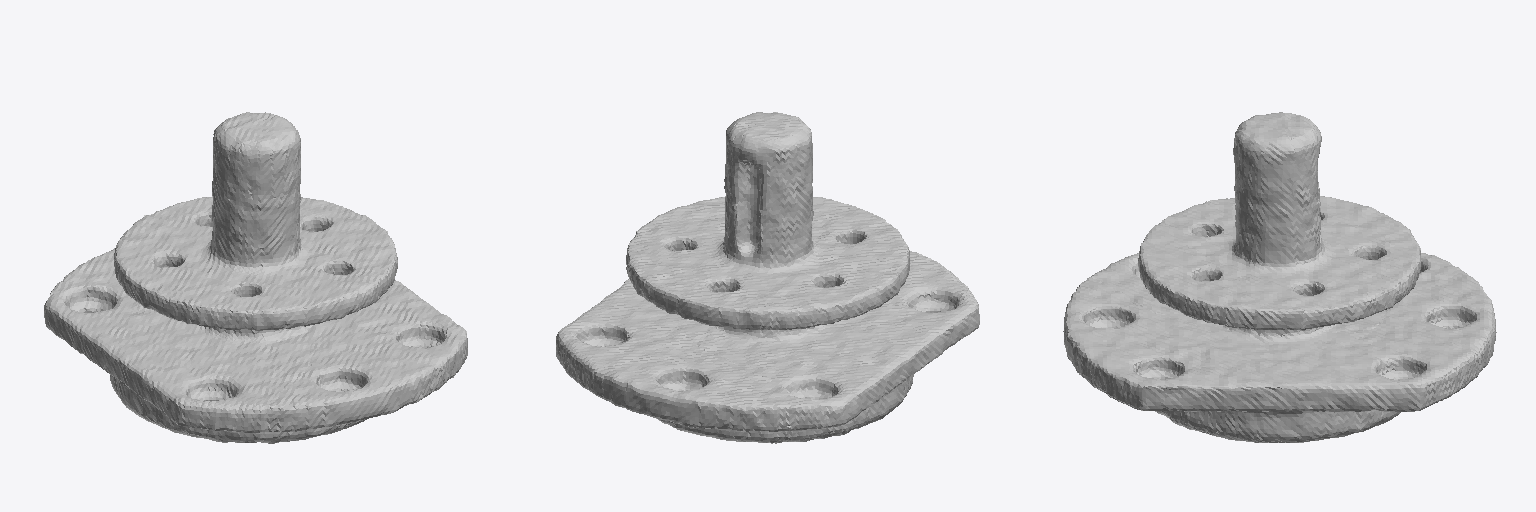
File: adaptateur.obj
3 renders of one model, left to right at view 1: azimuth 30°, elevation 25°; view 2: azimuth 150°, elevation 25°; view 3: azimuth 270°, elevation 25°, orthographic.
Parts seen in each view (by area): view 1: adapatateur_modifie; view 2: adapatateur_modifie; view 3: adapatateur_modifie.
Boxes of the visible parts, x1,y1,x2,y2 form: adapatateur_modifie: [44, 112, 467, 443]; adapatateur_modifie: [556, 112, 979, 443]; adapatateur_modifie: [1063, 112, 1496, 442].
Size of the model in its own units: 0.1491 by 0.1292 by 0.1926.